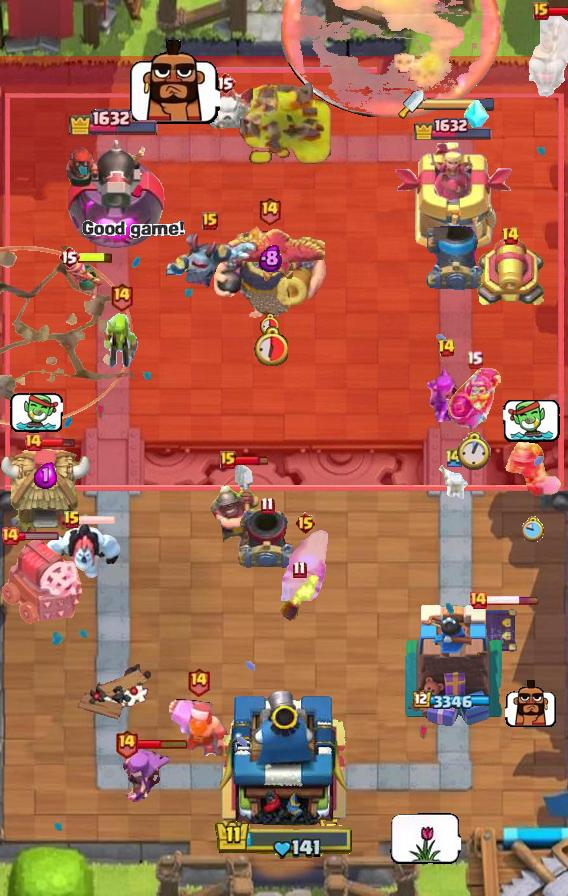bandit: (209, 462, 263, 550), (503, 433, 563, 501)
bar: (395, 142, 514, 256)
bomber: (277, 575, 321, 621)
bowler: (279, 529, 331, 601)
cannon: (66, 255, 104, 303)
clock: (215, 819, 353, 861)
electro-spirit: (258, 244, 281, 272), (35, 462, 58, 490)
elite-barbarian: (524, 13, 568, 99)
elixir: (252, 326, 288, 366), (457, 432, 491, 471), (523, 516, 546, 542), (260, 312, 280, 336)
elixir-golem-small: (162, 231, 258, 301)
emote: (135, 738, 188, 750), (486, 595, 540, 606), (8, 530, 59, 541), (78, 251, 114, 264), (40, 436, 76, 449), (234, 454, 270, 467), (79, 514, 116, 526), (548, 5, 568, 17)
evolution-symbol: (423, 362, 469, 422)
firecracker-evolution: (447, 366, 501, 429)
giant-skeleton: (212, 221, 328, 321)
golem: (0, 535, 86, 625)
guard: (0, 246, 134, 426)
heal-spirit: (439, 464, 469, 500)
ice-spirit-evolution-symbol: (464, 605, 518, 655)
king-tower: (214, 684, 354, 826)
king-tower-bar: (424, 97, 496, 111)
mighty-miner: (165, 692, 231, 756)
mini-pekka: (193, 83, 257, 133)
mother-witch: (213, 227, 325, 297)
musketeer: (236, 504, 298, 572), (426, 226, 486, 290)
pad_2: (464, 100, 490, 132)
phoenix-egg: (281, 0, 501, 116)
prince: (0, 447, 94, 537)
queen-tower: (402, 599, 507, 731)
rage: (42, 523, 124, 581)
rascal-girl: (114, 742, 170, 805)
royal-recruit: (474, 237, 546, 311)
selected: (68, 106, 160, 135), (414, 115, 495, 140), (413, 691, 493, 711)
skeleton: (128, 38, 220, 126), (389, 812, 461, 864), (504, 397, 561, 443), (505, 679, 557, 728), (9, 391, 62, 433)
text: (110, 280, 135, 311), (186, 667, 211, 698), (257, 195, 282, 225), (114, 728, 138, 759), (294, 511, 317, 535), (214, 71, 236, 95), (58, 245, 80, 269), (444, 448, 464, 469), (23, 432, 43, 452), (0, 526, 20, 546), (468, 590, 488, 610), (500, 226, 519, 246), (436, 338, 455, 358), (63, 510, 81, 530), (465, 351, 483, 370), (533, 2, 549, 20), (202, 212, 218, 230), (220, 451, 236, 469), (293, 561, 307, 580), (261, 497, 275, 515)
tower-bar: (60, 132, 167, 256)
zap: (102, 313, 140, 371)
